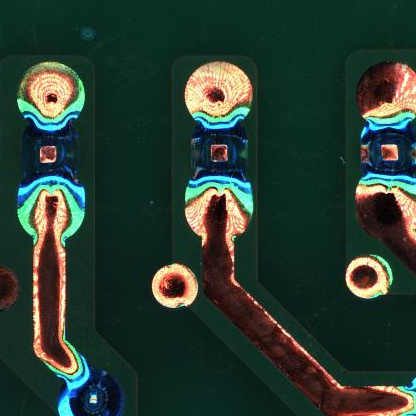spot: (17, 122, 82, 192), (186, 120, 251, 184), (359, 121, 415, 184), (57, 371, 124, 416)
